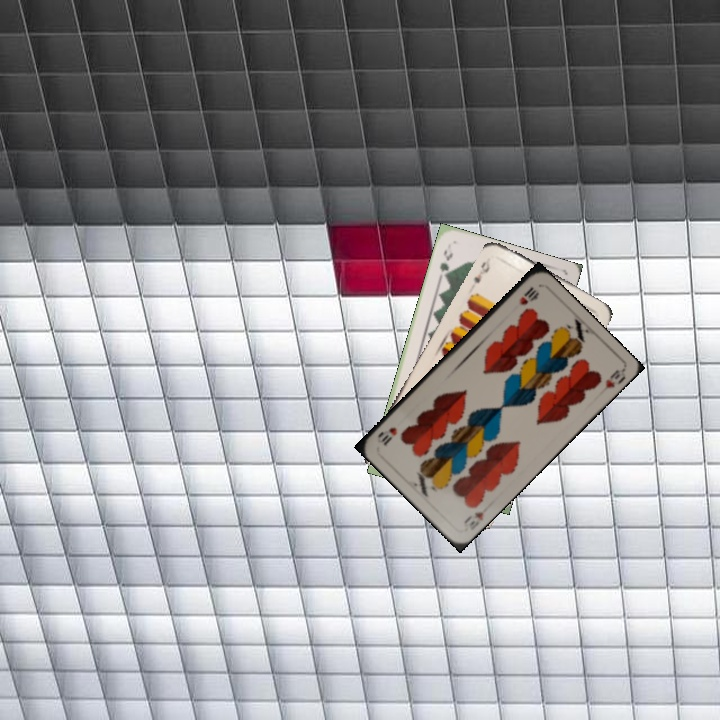E9: (470, 253, 493, 286)
G9: (435, 246, 455, 281)
H10: (459, 508, 486, 533), (515, 282, 540, 308)
